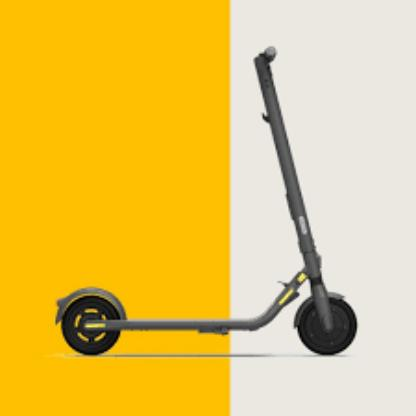bike: (54, 46, 358, 357)
